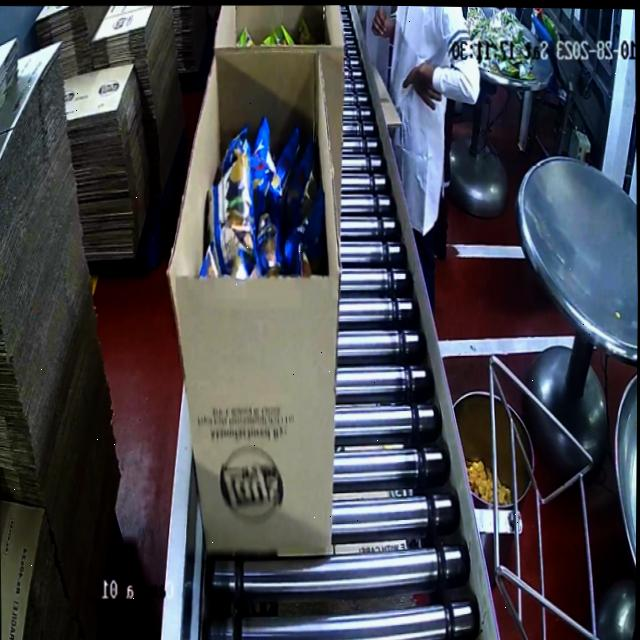PAPRIKA: (202, 107, 324, 275)
